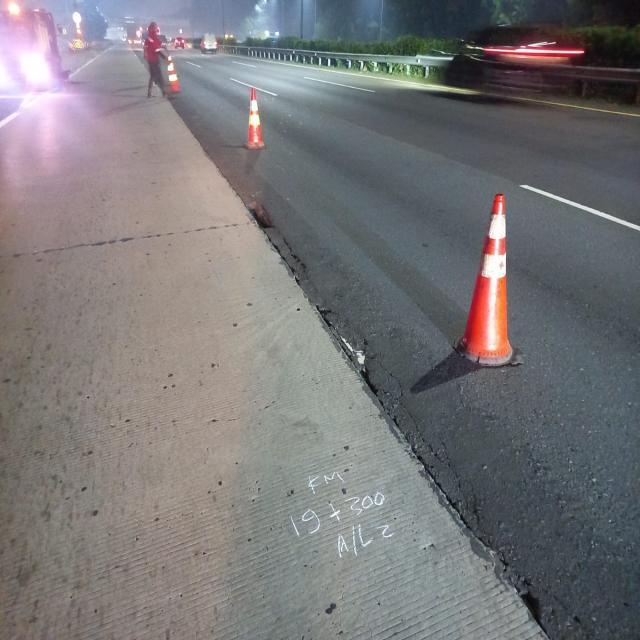Buraco: (505, 574, 547, 626), (243, 199, 277, 230), (355, 364, 380, 396), (312, 303, 335, 329)
